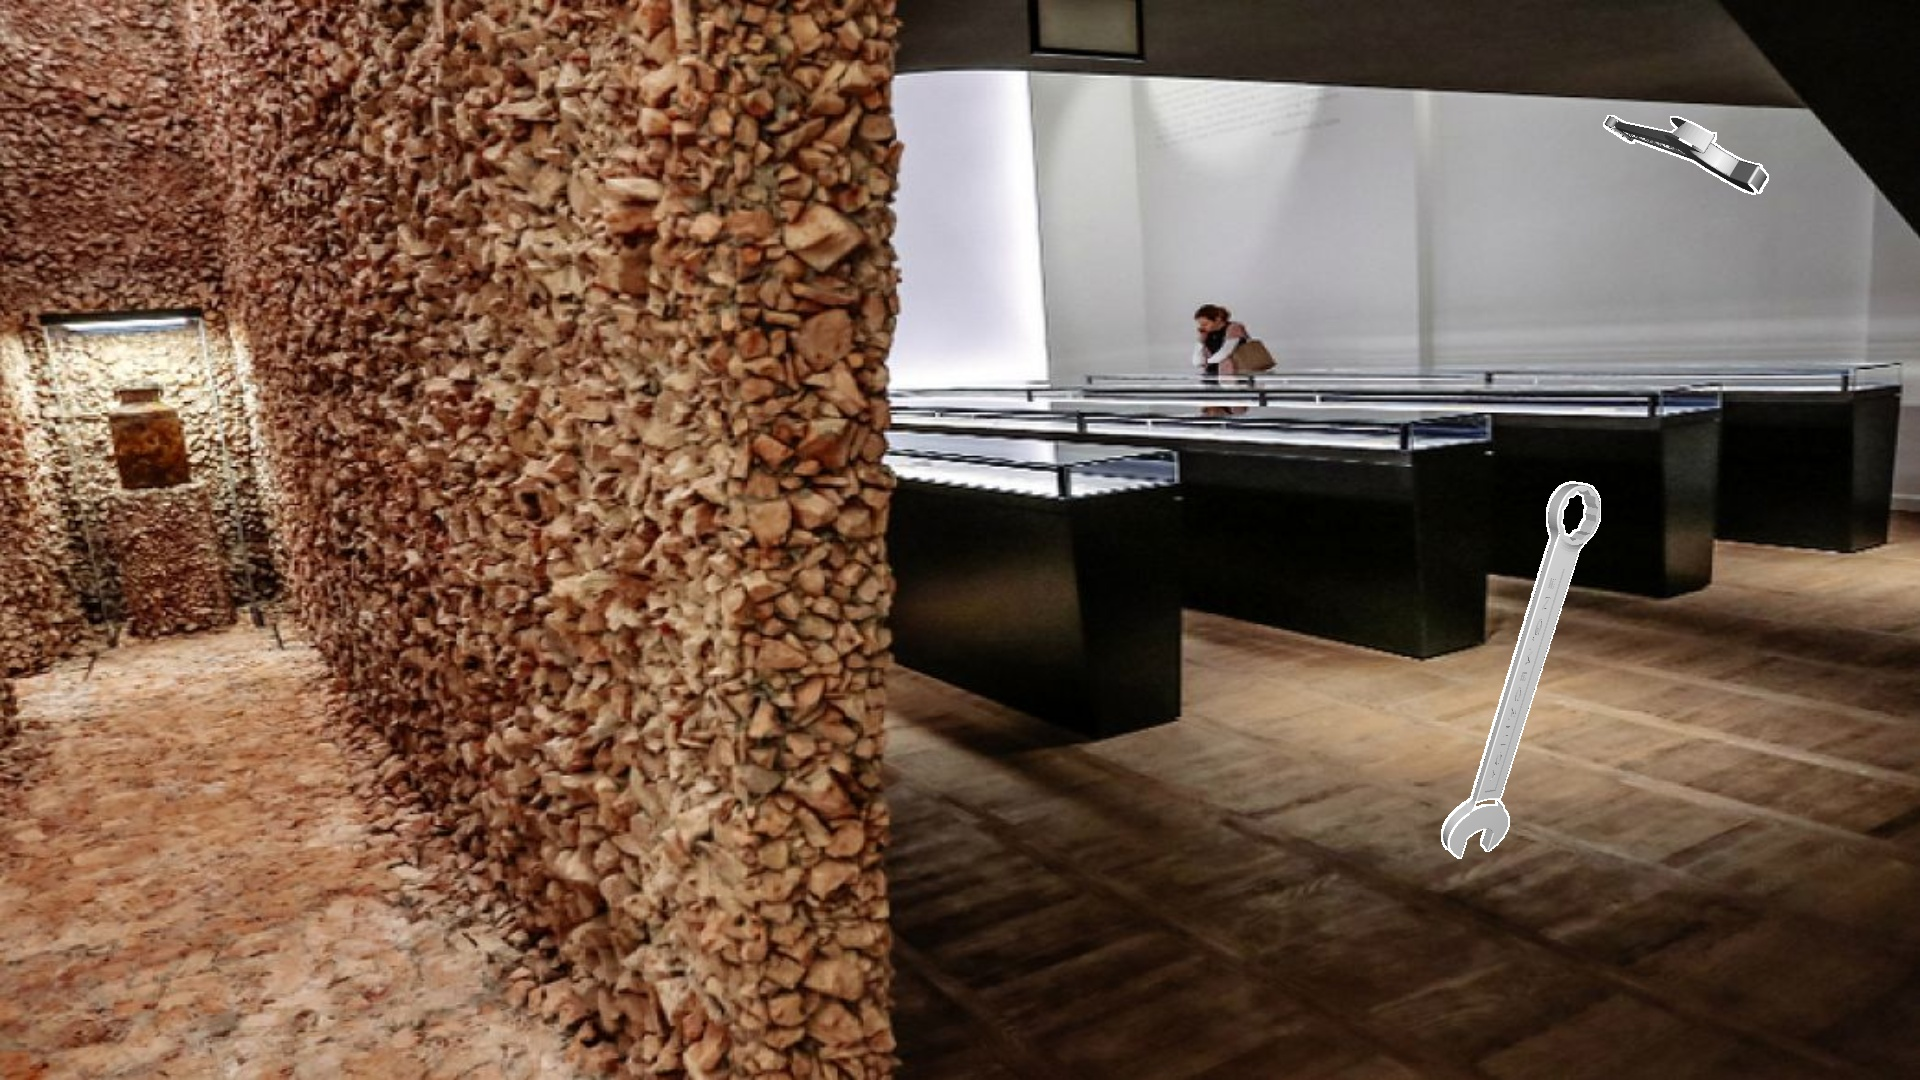Mixed Key: (1441, 481, 1600, 858), (1604, 115, 1768, 194)
